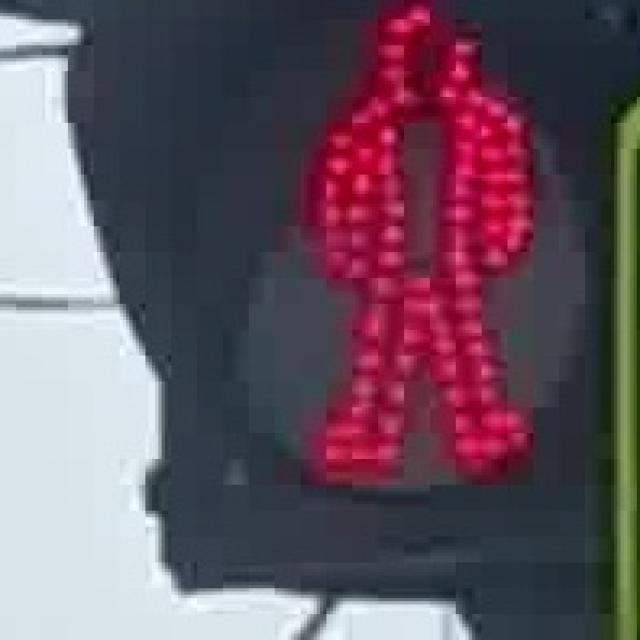red-light: (257, 11, 538, 490)
